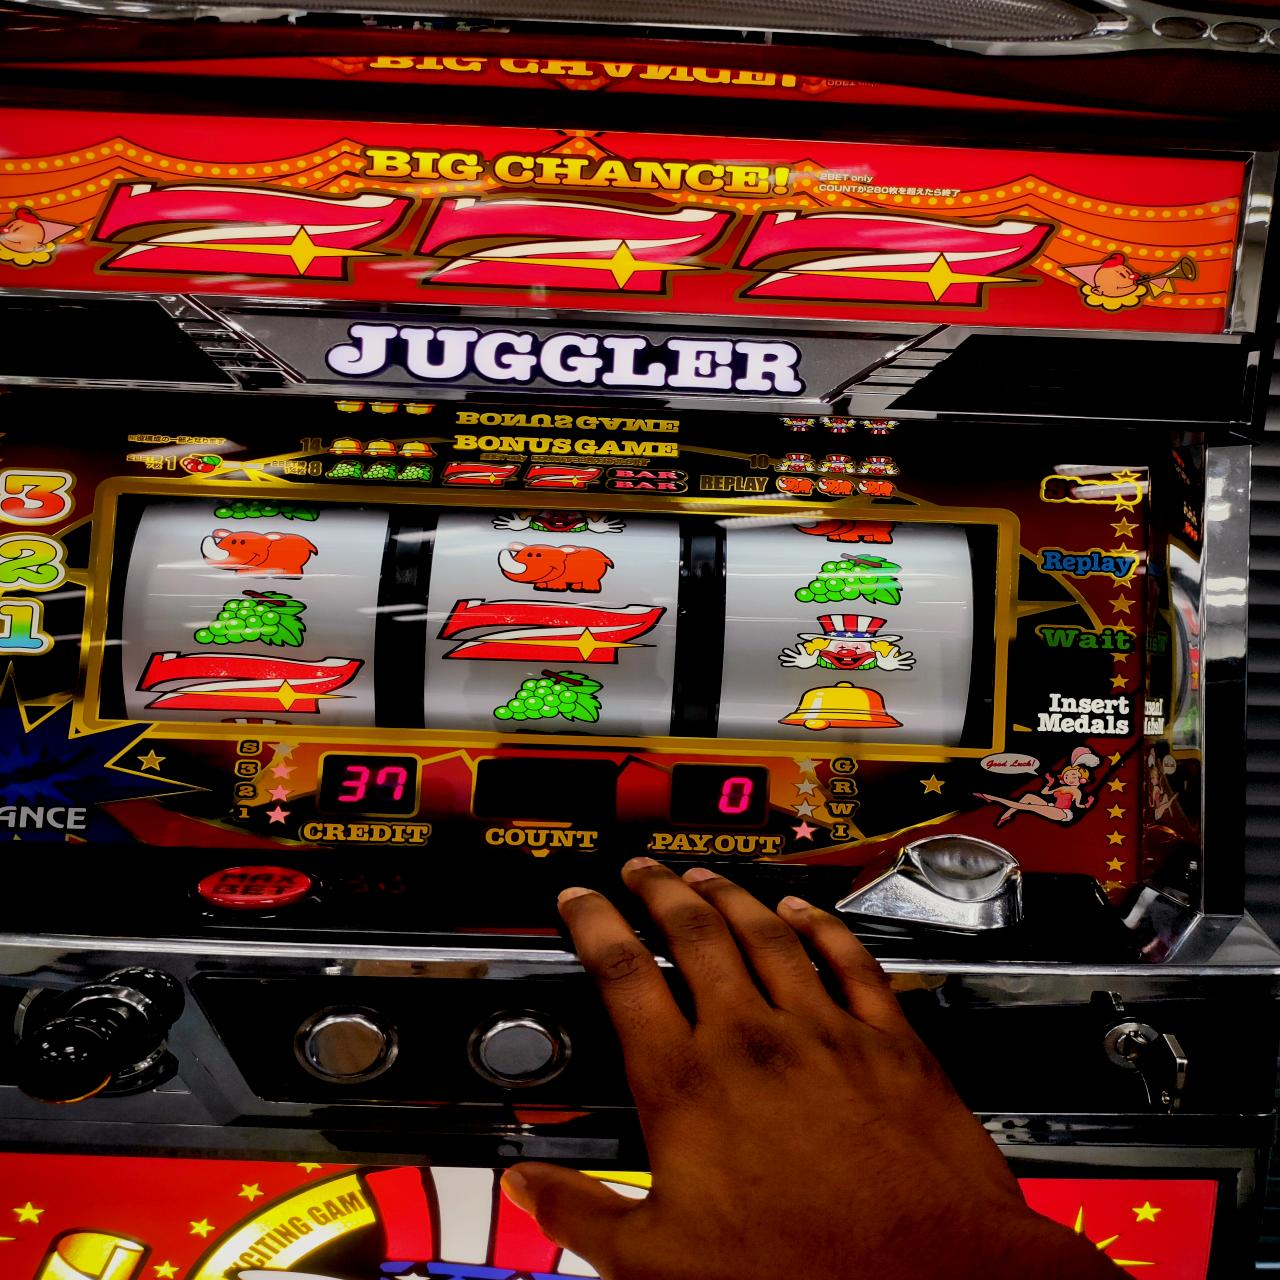7: (441, 593, 660, 663), (143, 649, 362, 716)
8: (492, 539, 613, 592), (203, 531, 319, 583)
Display: (102, 476, 1000, 754)
bell: (781, 682, 900, 730)
clown: (772, 613, 914, 676)
grape: (490, 667, 607, 727), (195, 588, 308, 647), (795, 550, 904, 607)
